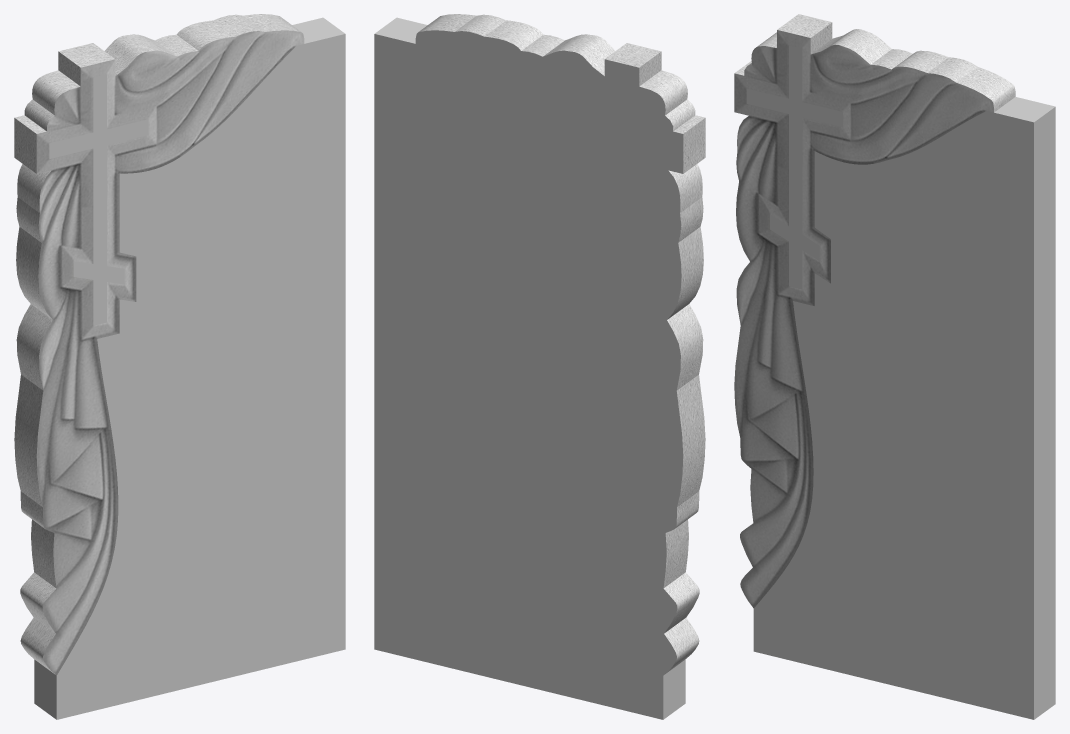
The model's file is cnbff2ac1ea3_tkf.glb.
3 renders of one model, left to right at view 1: azimuth 30°, elevation 25°; view 2: azimuth 150°, elevation 25°; view 3: azimuth 330°, elevation 25°, orthographic. The views are drawn at different scales.
Visible parts, largest first — view 1: Pam-d01-245, Pam-d01-245_2_notexture; view 2: Pam-d01-245, Pam-d01-245_2_notexture; view 3: Pam-d01-245, Pam-d01-245_2_notexture.
Boxes of the visible parts, left/top/right/bottom form: Pam-d01-245: left=34, top=17, right=345, bottom=719; Pam-d01-245_2_notexture: left=14, top=14, right=304, bottom=675; Pam-d01-245: left=374, top=17, right=685, bottom=719; Pam-d01-245_2_notexture: left=418, top=14, right=705, bottom=673; Pam-d01-245: left=746, top=45, right=1055, bottom=719; Pam-d01-245_2_notexture: left=734, top=14, right=1015, bottom=608.
Bounding box in the file's own units: 0.4 × 0.8 × 0.05.
Materials: 1 (1 with a texture image).
